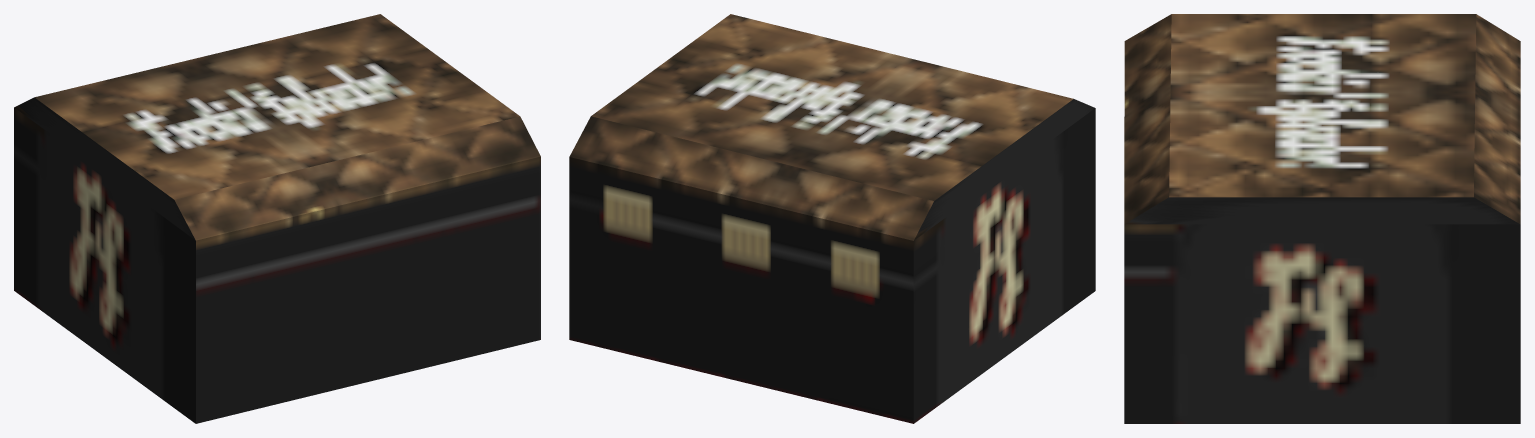
Rendered from Bag_FrockinShirts_TiesBox.fbx.
3 renders of one model, left to right at view 1: azimuth 30°, elevation 25°; view 2: azimuth 150°, elevation 25°; view 3: azimuth 270°, elevation 25°, orthographic. The views are drawn at different scales.
Visible parts, largest first — view 1: ToolBox_Ground; view 2: ToolBox_Ground; view 3: ToolBox_Ground.
Part boxes in pixels (box(x1,y1,x2,y2)): ToolBox_Ground: box(14, 14, 540, 423); ToolBox_Ground: box(569, 14, 1095, 423); ToolBox_Ground: box(1124, 14, 1520, 423).
Bounding box in the file's own units: 0.104 × 0.06 × 0.095.
